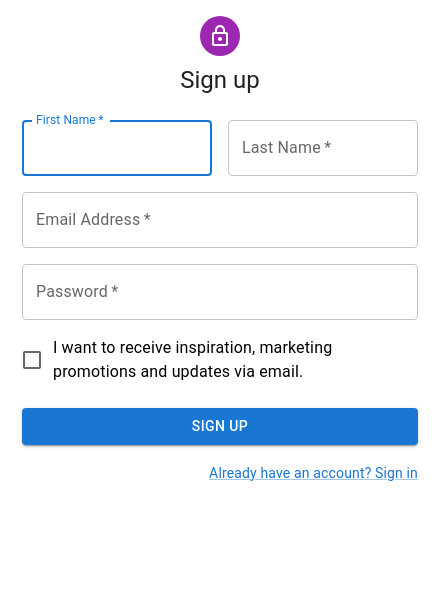
Scenario: SignUp Component › Test case for Email and Password fields regix validat of signup
Simulate user input
Type "akk5555" into the field labelled "Email Address".
click(220, 220); type("akk5555")  # box [22,192,418,248]
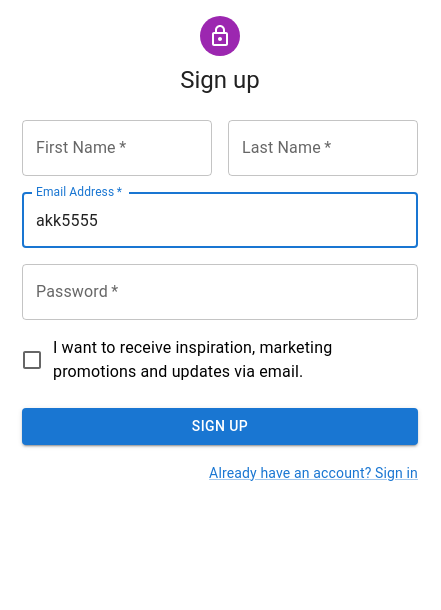
Type "fgdfgfgfgf" into the password field labelled "Password *".
click(220, 292); type("fgdfgfgfgf")  # box [22,264,418,320]
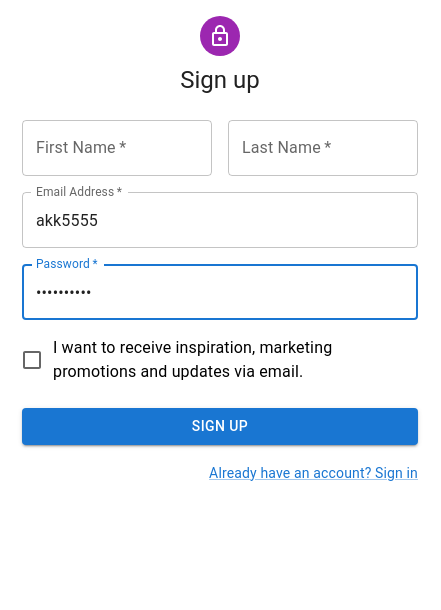
Click the button "Sign up".
click(220, 426)  # box [22,408,418,444]
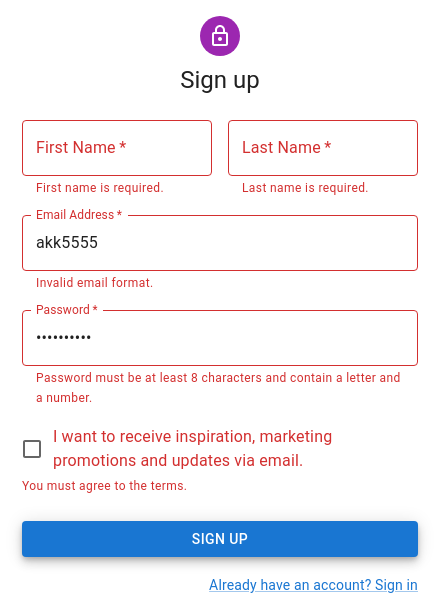
Expected: the text "Invalid email format." is shown, [36,276,154,290]
Expected: the text "You must agree to the terms." is shown, [22,479,187,493]
Expected: the text "Password must be at least 8 characters and contain a letter and a number." is shown, [36,369,404,409]
